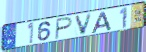1: (119, 6, 129, 30), (27, 21, 35, 45)
6: (38, 20, 53, 42)
A: (91, 11, 113, 34)
P: (54, 16, 74, 41)
V: (73, 12, 93, 37)
